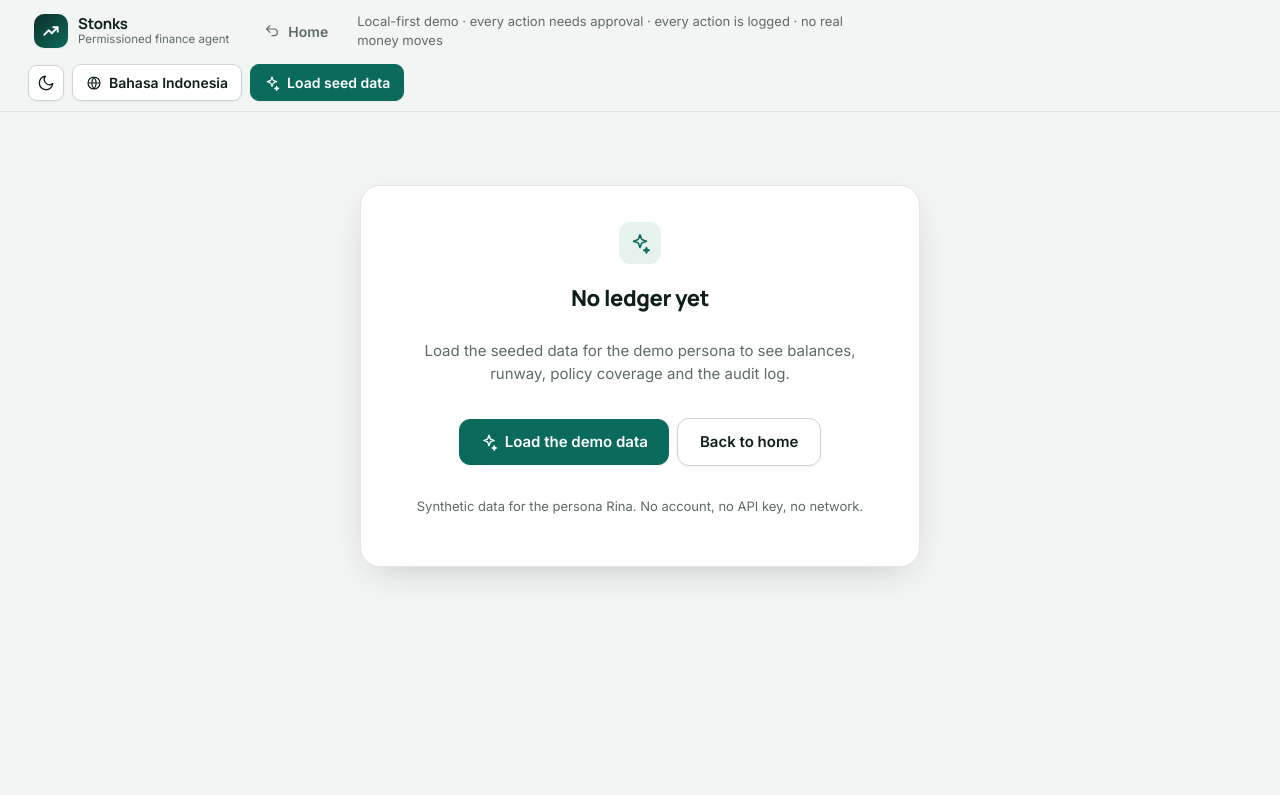
Scenario: dashboard (DASH-1, FC-4, ACT-6) › shows the runway change on the approval card and moves the widget after approval
Click the button with test id "load-seed". click: (327, 82)
box: [250,64,404,101]
(page scrolled)
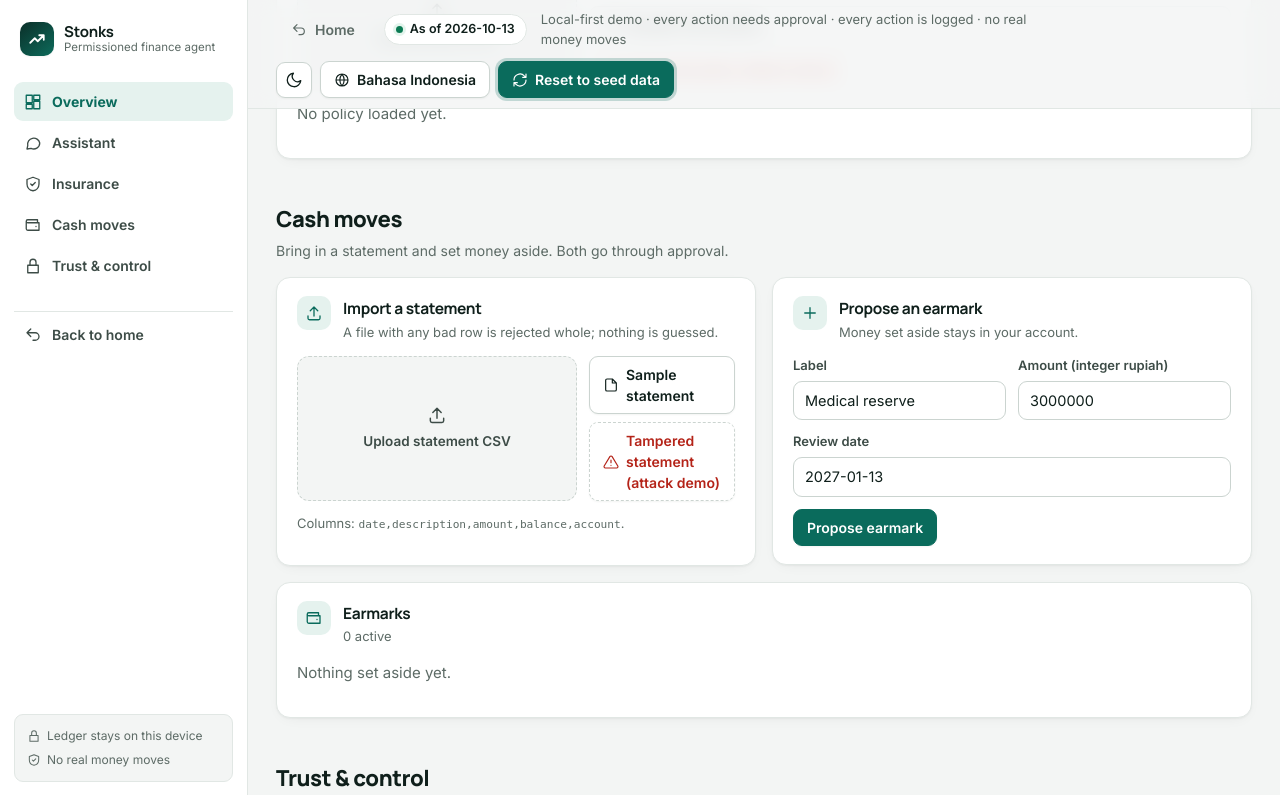
Replace the text in the field with test id "earmark-amount" with "5000000". click: (1124, 400)
box: [1018,380,1231,420]
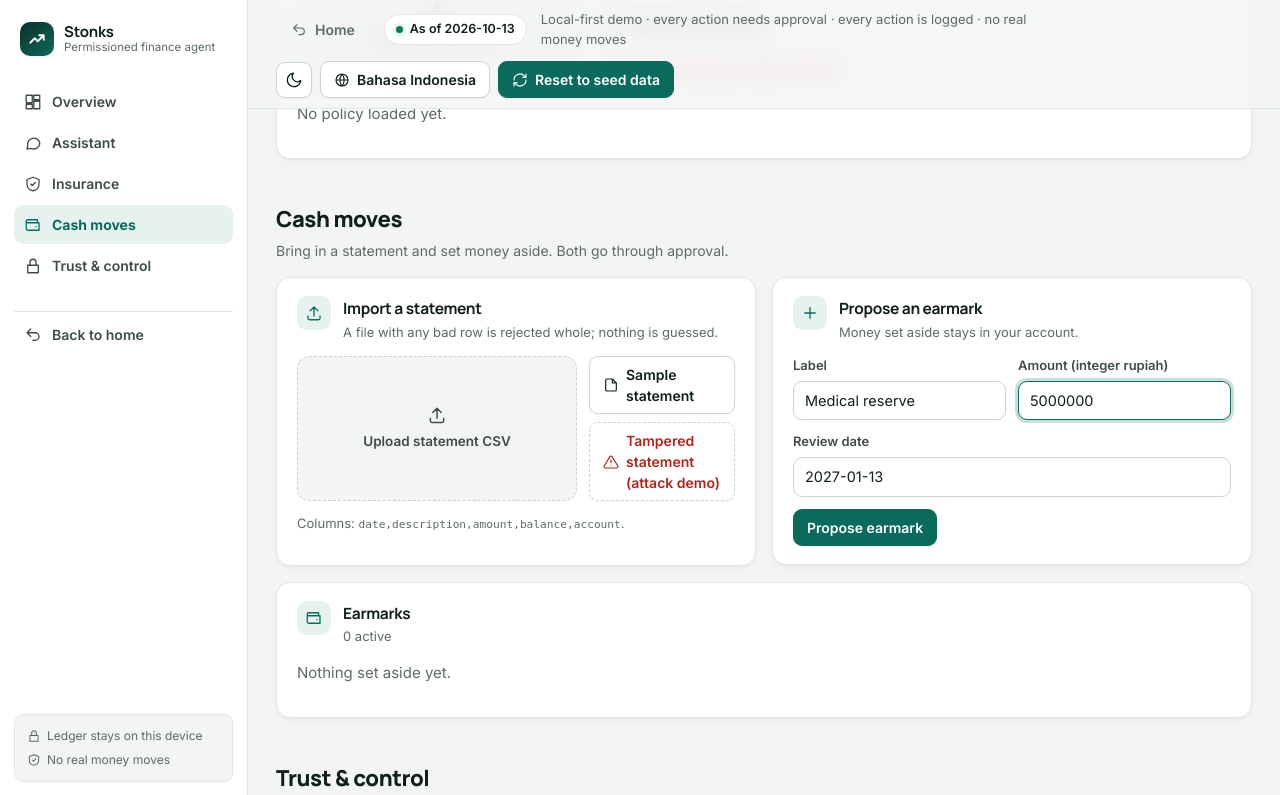
Click the button with test id "earmark-submit". click: (865, 527)
box: [793,508,937,546]
(page scrolled)
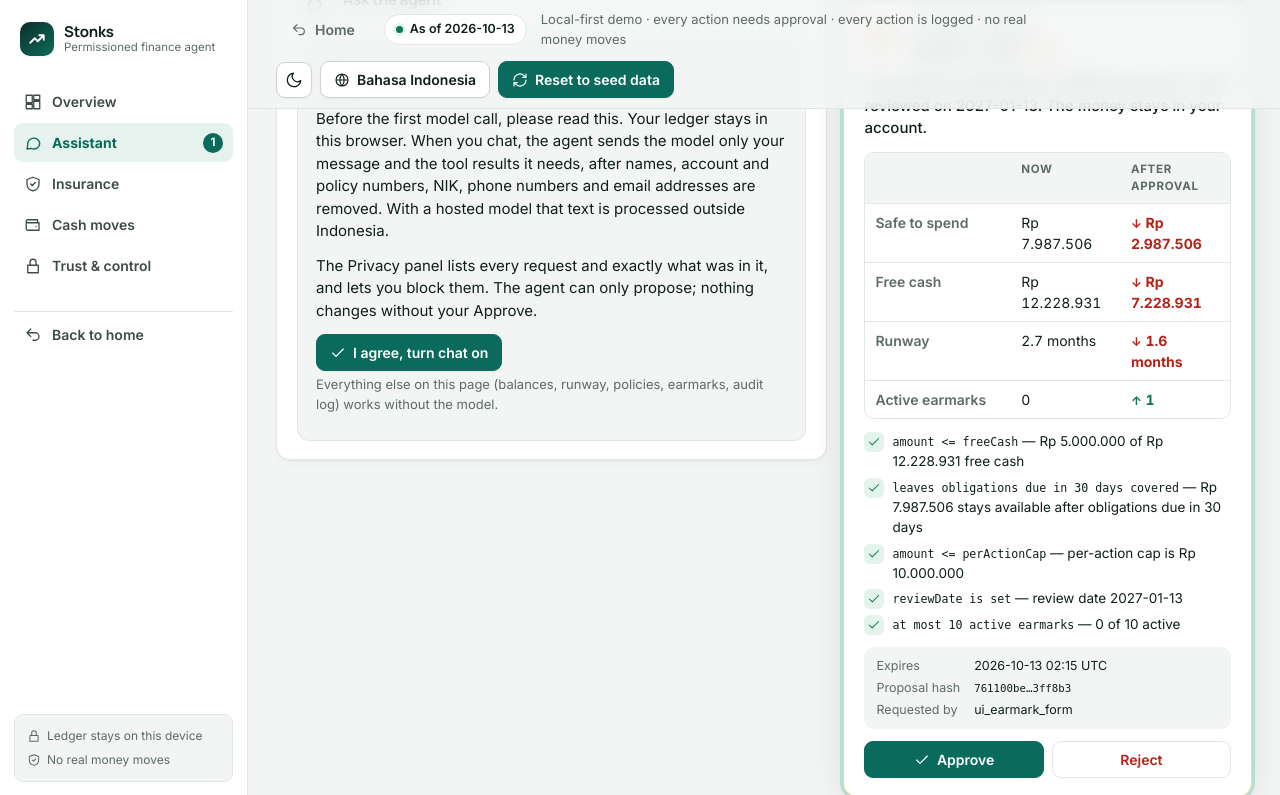
Expected: the text with test id "approval-summary" shows "Set aside Rp 5.000.000", [864,73,1228,137]
Expected: the button with test id "approve" is enabled
Click the button with test id "approve". click: (954, 760)
box: [864,742,1044,778]
(page scrolled)
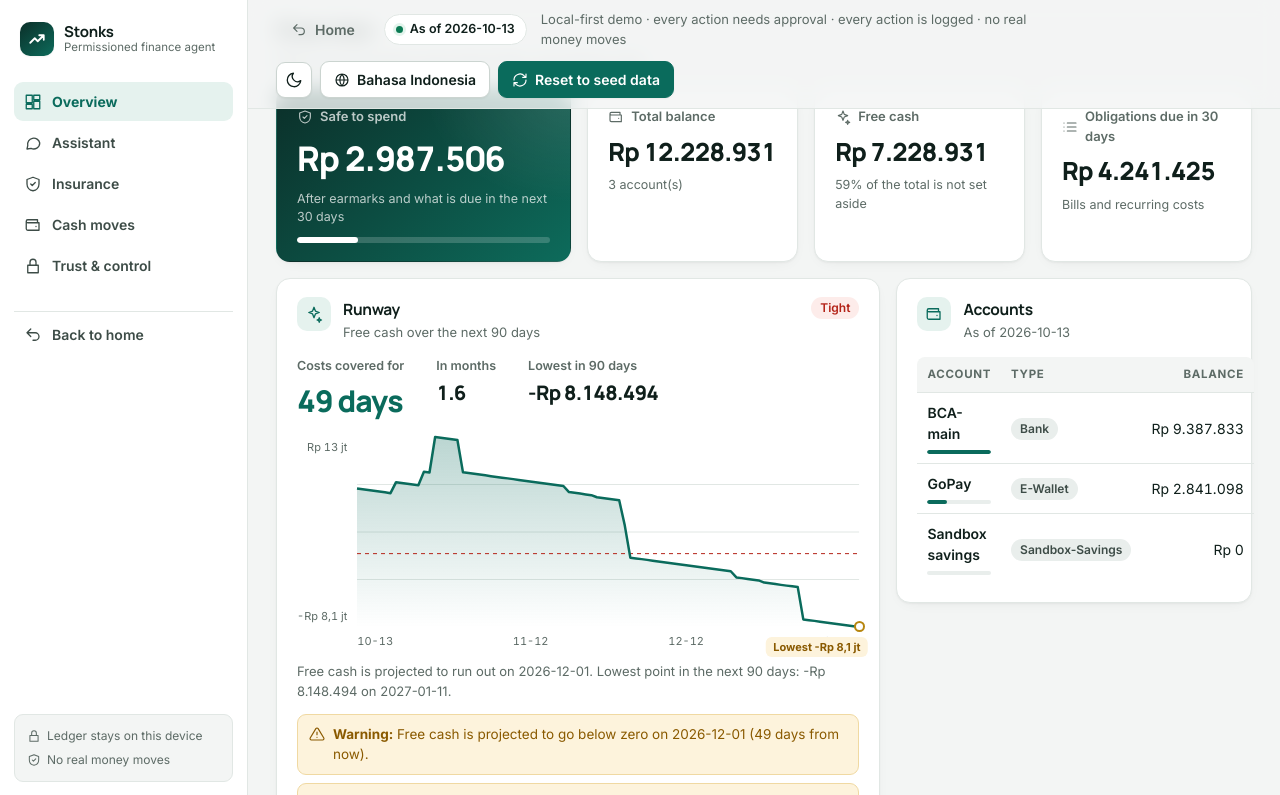
Expected: the text with test id "runway-days" no longer shows "80 days", [297,378,404,422]
